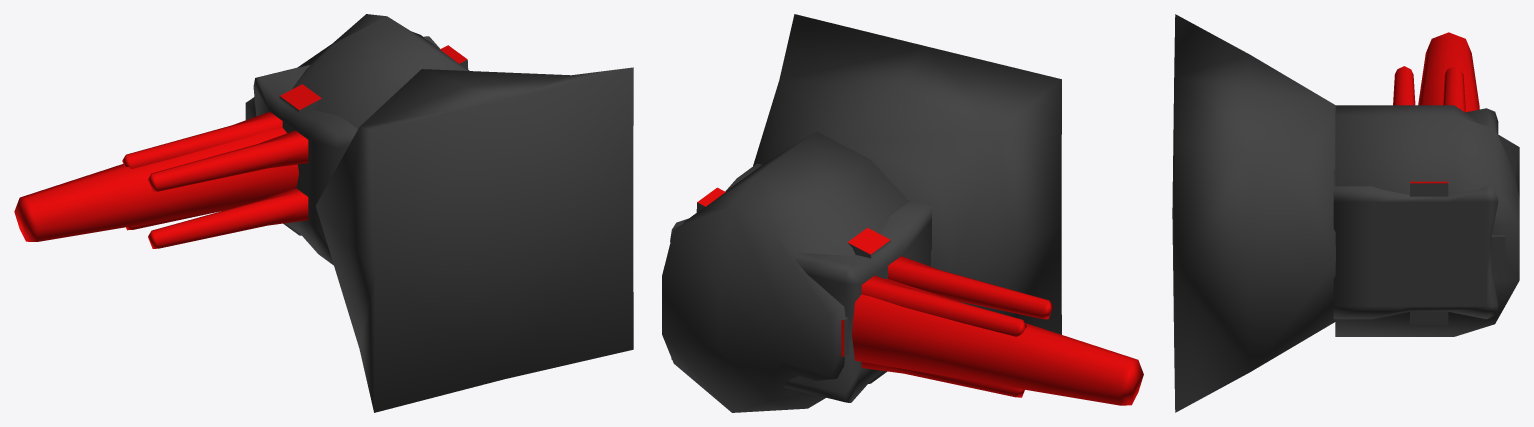
File: Turrets.fbx
3 renders of one model, left to right at view 1: azimuth 30°, elevation 25°; view 2: azimuth 150°, elevation 25°; view 3: azimuth 270°, elevation 25°, orthographic. The views are drawn at different scales.
Parts seen in each view (by area): view 1: Base, Turret1, Turret2; view 2: Turret1, Base, Turret2; view 3: Base, Turret2, Turret1.
Part boxes in pixels (left/top/right/bottom): Base: left=316, top=67, right=633, bottom=412; Turret1: left=14, top=14, right=469, bottom=241; Turret2: left=122, top=36, right=468, bottom=265; Turret1: left=662, top=131, right=1143, bottom=412; Base: left=753, top=14, right=1061, bottom=334; Turret2: left=670, top=163, right=1053, bottom=402; Base: left=1172, top=14, right=1335, bottom=412; Turret2: left=1333, top=66, right=1505, bottom=324; Turret1: left=1335, top=32, right=1519, bottom=336.
Bounding box in the file's own units: 249 × 143 × 163.
